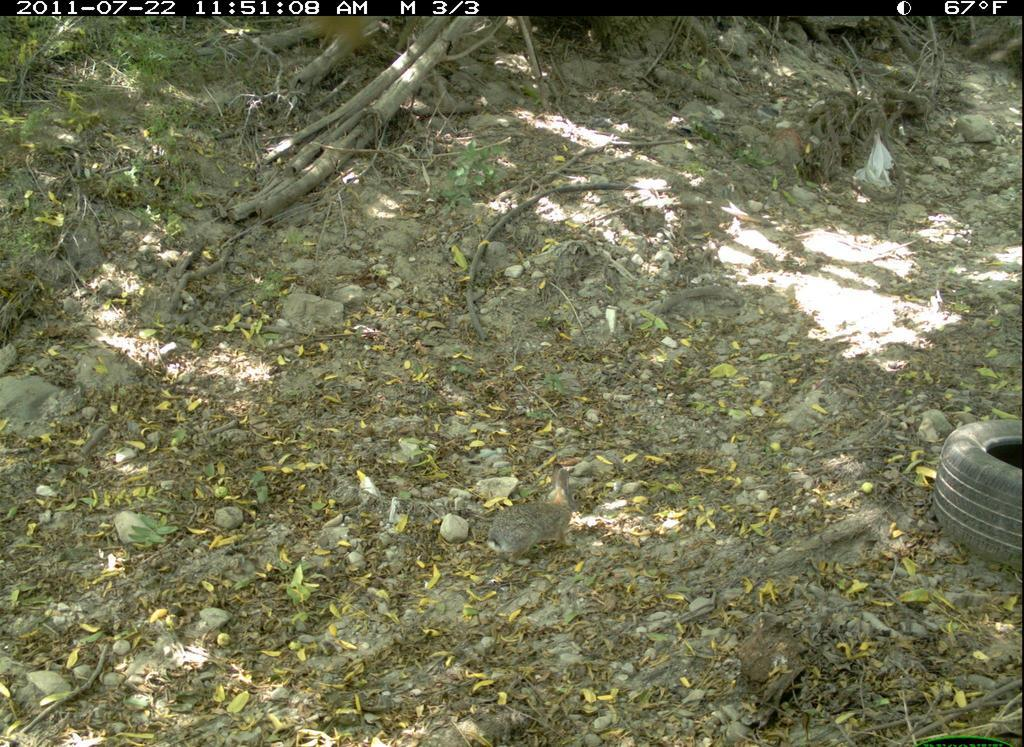rabbit: (486, 454, 602, 580)
